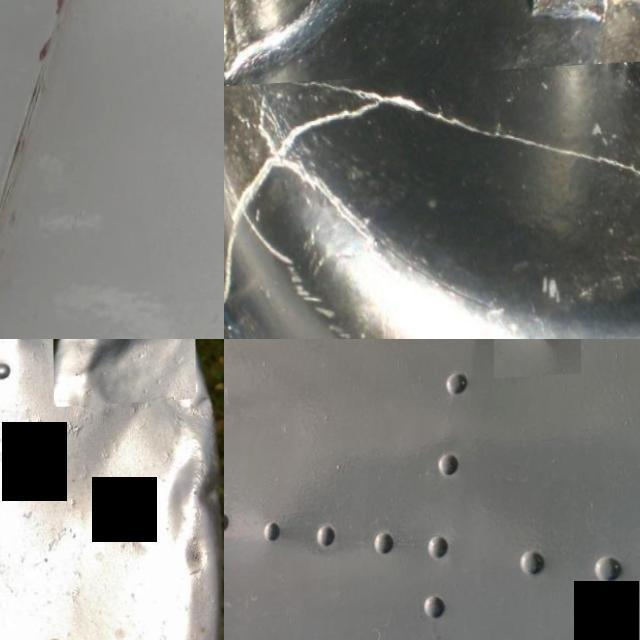Crack: (224, 83, 640, 317), (2, 0, 97, 100)
Dent: (116, 435, 224, 599), (52, 339, 195, 411), (492, 339, 580, 382)
